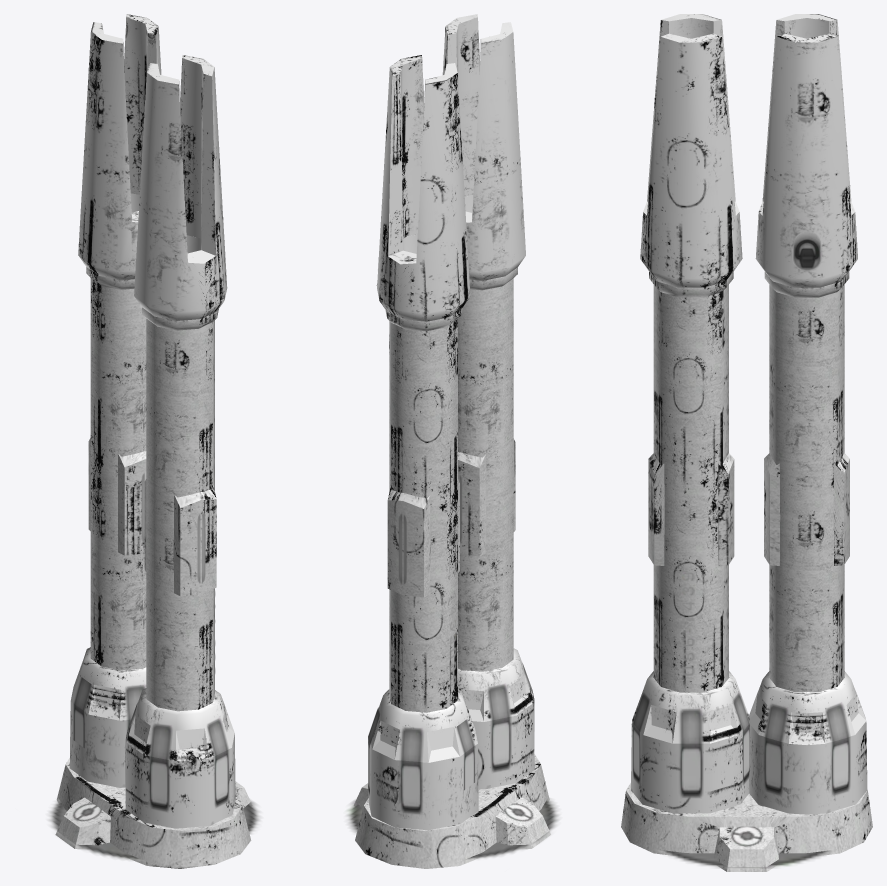
File: gvsr-repeater-s2.glb
3 renders of one model, left to right at view 1: azimuth 30°, elevation 25°; view 2: azimuth 150°, elevation 25°; view 3: azimuth 270°, elevation 25°, orthographic. The views are drawn at different scales.
Visible parts, largest first — view 1: behr_las_rep_s2; view 2: behr_las_rep_s2; view 3: behr_las_rep_s2.
Part boxes in pixels (x1,y1,x2,y2): behr_las_rep_s2: [48, 14, 261, 868]; behr_las_rep_s2: [346, 14, 559, 868]; behr_las_rep_s2: [621, 14, 872, 871].
Bounding box in the file's own units: 0.1851 × 0.7293 × 0.2083.
4 materials, 4 textured.
